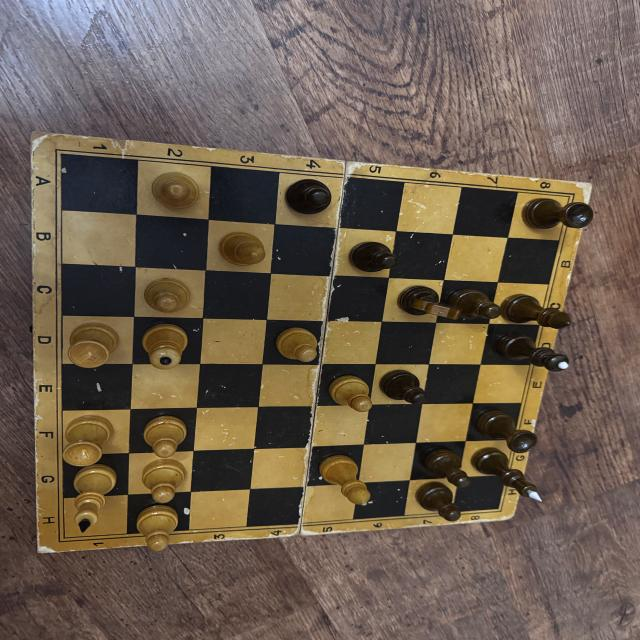black-bishop: (501, 294, 576, 329)
black-king: (471, 444, 544, 504)
black-knight: (400, 285, 461, 323)
black-pawn: (413, 481, 464, 523), (420, 450, 473, 488), (449, 287, 501, 324), (284, 178, 332, 215), (378, 369, 426, 404), (349, 239, 398, 272)
black-queen: (488, 331, 570, 373)
black-rook: (472, 408, 539, 453), (523, 194, 594, 233)
white-bishop: (318, 452, 375, 508), (217, 231, 269, 268)
white-king: (71, 466, 116, 534)
white-pawn: (134, 504, 181, 551), (140, 416, 188, 459), (140, 460, 188, 502), (151, 172, 200, 208), (144, 277, 191, 314), (278, 326, 319, 364), (332, 377, 372, 415)
white-queen: (138, 322, 191, 370)
white-rook: (62, 416, 114, 467), (67, 323, 119, 369)
